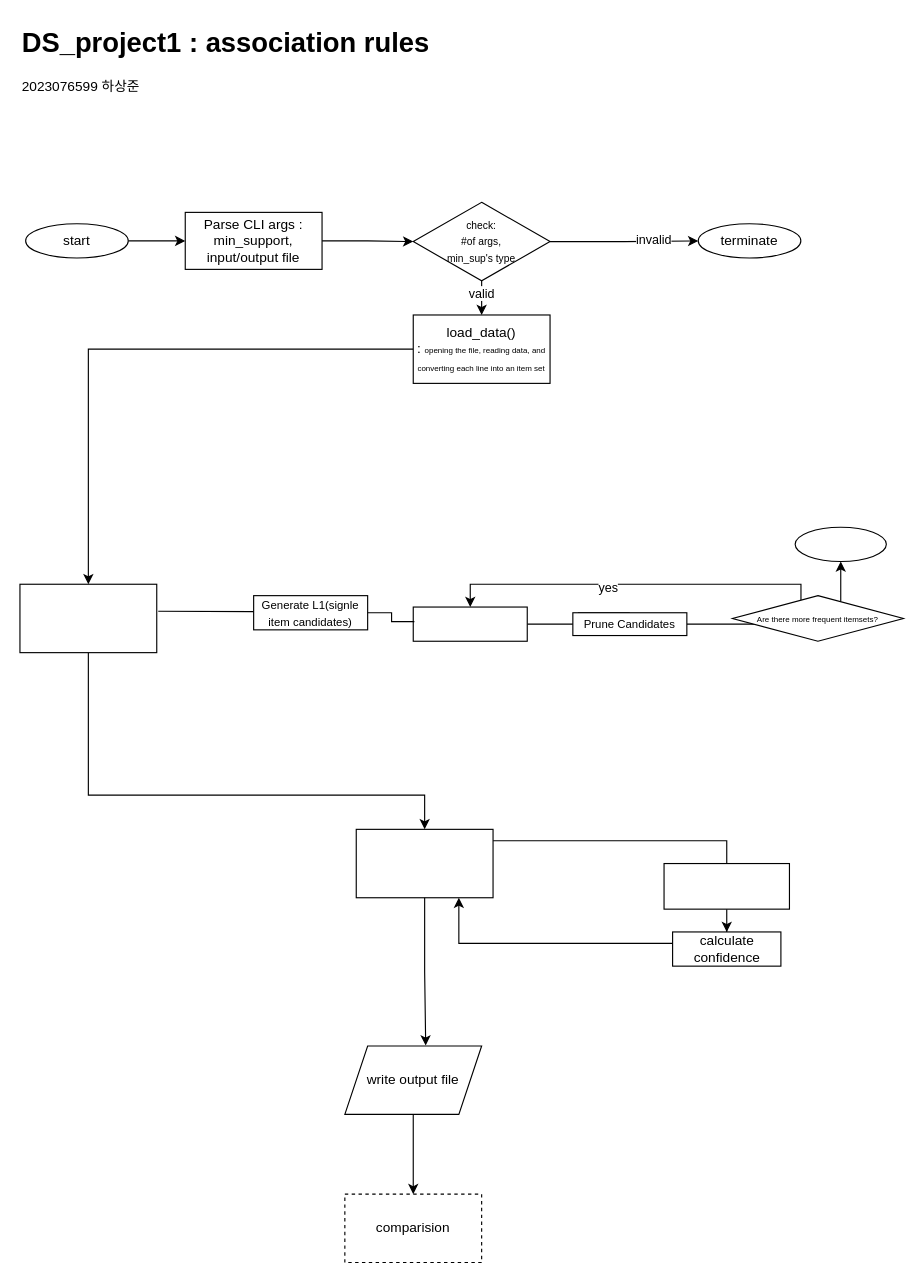
This 923x1283 diagram has some shape labels left out. Here are the shapes that lost their labels. From the top down, the box of each, then its label:
(794, 526, 886, 561): exit
(19, 583, 157, 653): apriori
(412, 606, 527, 641): Generate Candidates
(355, 828, 493, 898): generate Association rules
(663, 862, 789, 909): Generate Proper nonempty subsets
